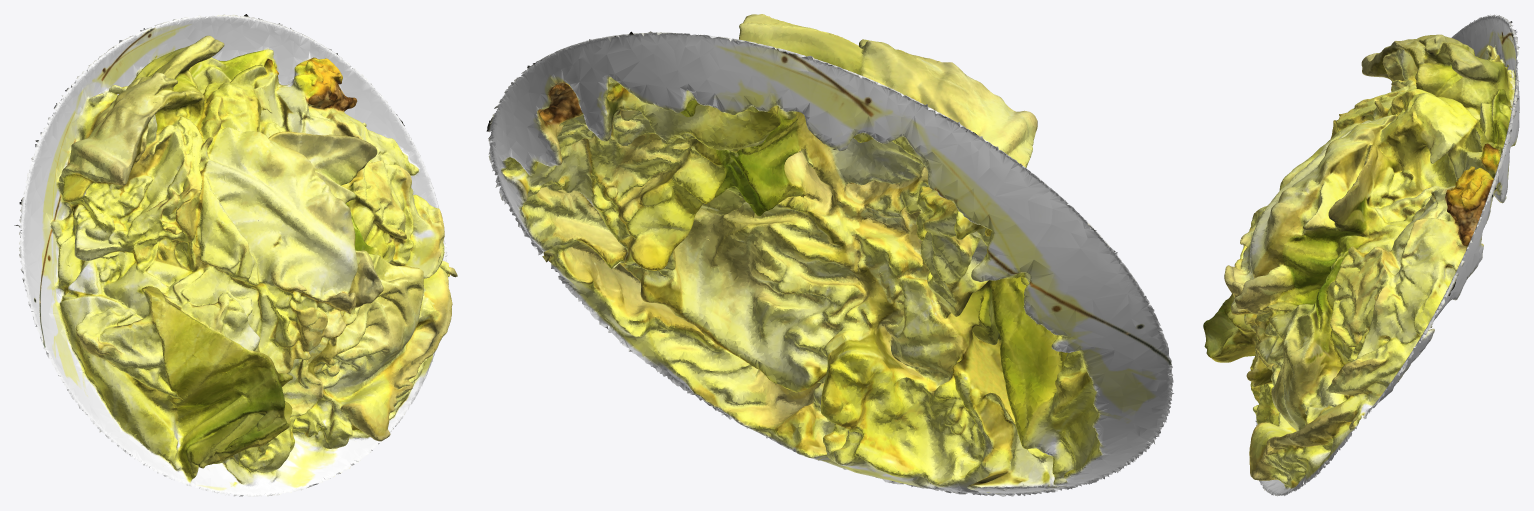
Rendered from vietnam_cabbage_food 1.glb.
The picture shows the model from 3 angles, left to right: view 1: azimuth 30°, elevation 25°; view 2: azimuth 150°, elevation 25°; view 3: azimuth 270°, elevation 25°; orthographic projection. The views are drawn at different scales.
Parts seen in each view (by area): view 1: Object_3, Object_5, Object_6, Object_2, Object_4; view 2: Object_4, Object_5, Object_3, Object_2, Object_6; view 3: Object_4, Object_5, Object_2, Object_3, Object_6.
Boxes of the visible parts, x1=… form: Object_3: x1=71, y1=14, x2=451, y2=482; Object_5: x1=19, y1=15, x2=423, y2=488; Object_6: x1=14, y1=58, x2=381, y2=480; Object_2: x1=59, y1=35, x2=446, y2=496; Object_4: x1=214, y1=111, x2=457, y2=493; Object_4: x1=492, y1=107, x2=1009, y2=493; Object_5: x1=626, y1=34, x2=1164, y2=493; Object_3: x1=486, y1=31, x2=1062, y2=489; Object_2: x1=495, y1=14, x2=1119, y2=496; Object_6: x1=558, y1=83, x2=1173, y2=484; Object_4: x1=1224, y1=214, x2=1463, y2=474; Object_5: x1=1231, y1=14, x2=1519, y2=431; Object_2: x1=1204, y1=34, x2=1515, y2=496; Object_3: x1=1203, y1=35, x2=1519, y2=471; Object_6: x1=1231, y1=31, x2=1499, y2=285.
Size of the model in its own units: 203 by 176 by 121.
Materials: 1 (1 with a texture image).
